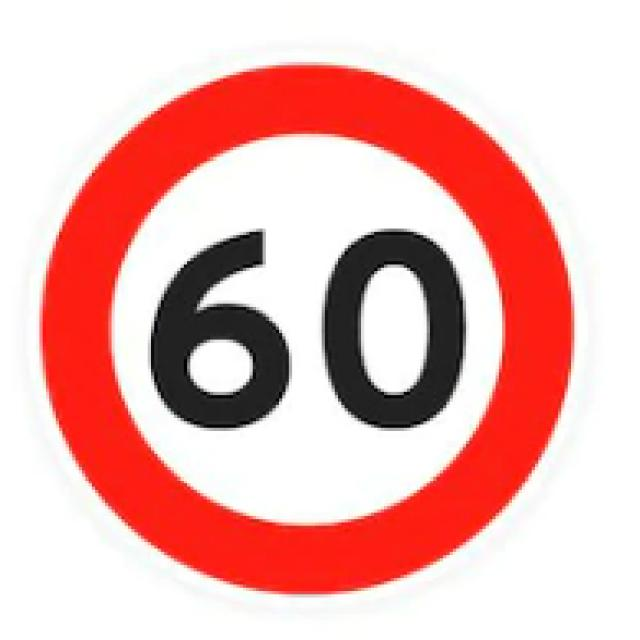Speed Limit -60-: (145, 222, 472, 434)
